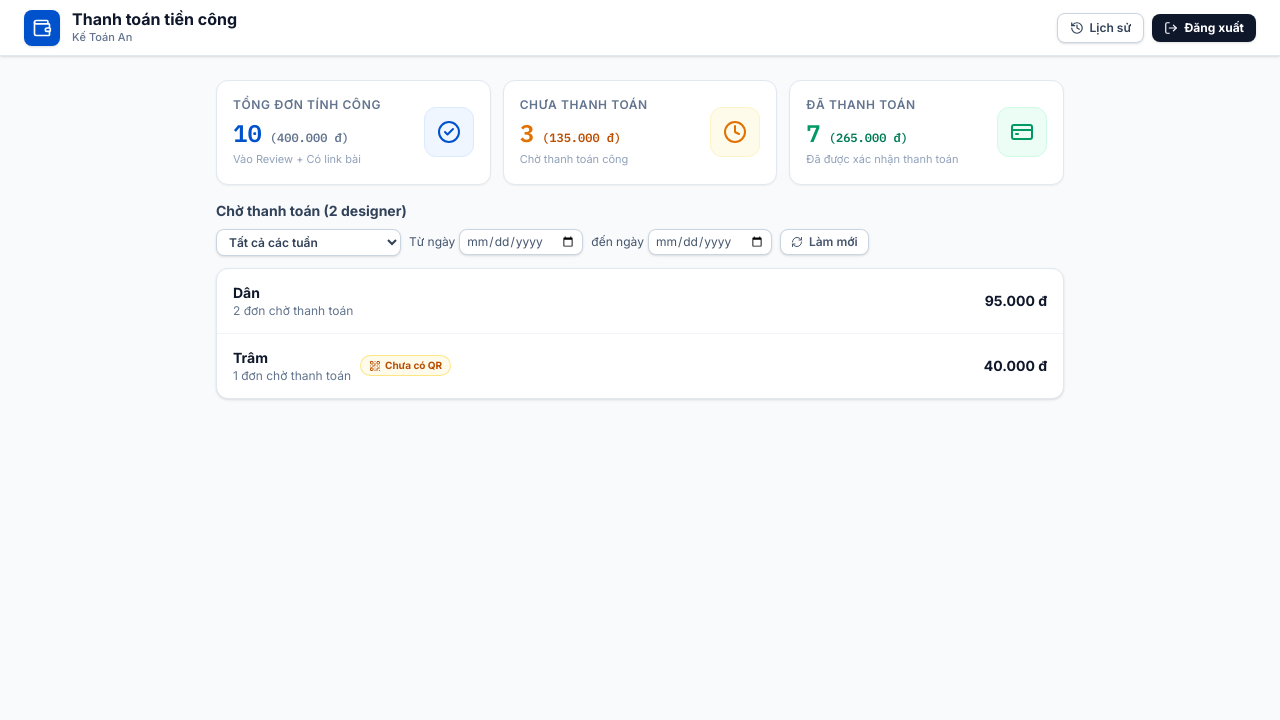
Test: AccountantPaymentsPage › a server conflict (data changed) closes the modal and refreshes instead of pretending success
What coordinates should you click on to do the following:
click the text "Dân"
I would click on:
 (246, 292)
Its box is [233,284,260,300].
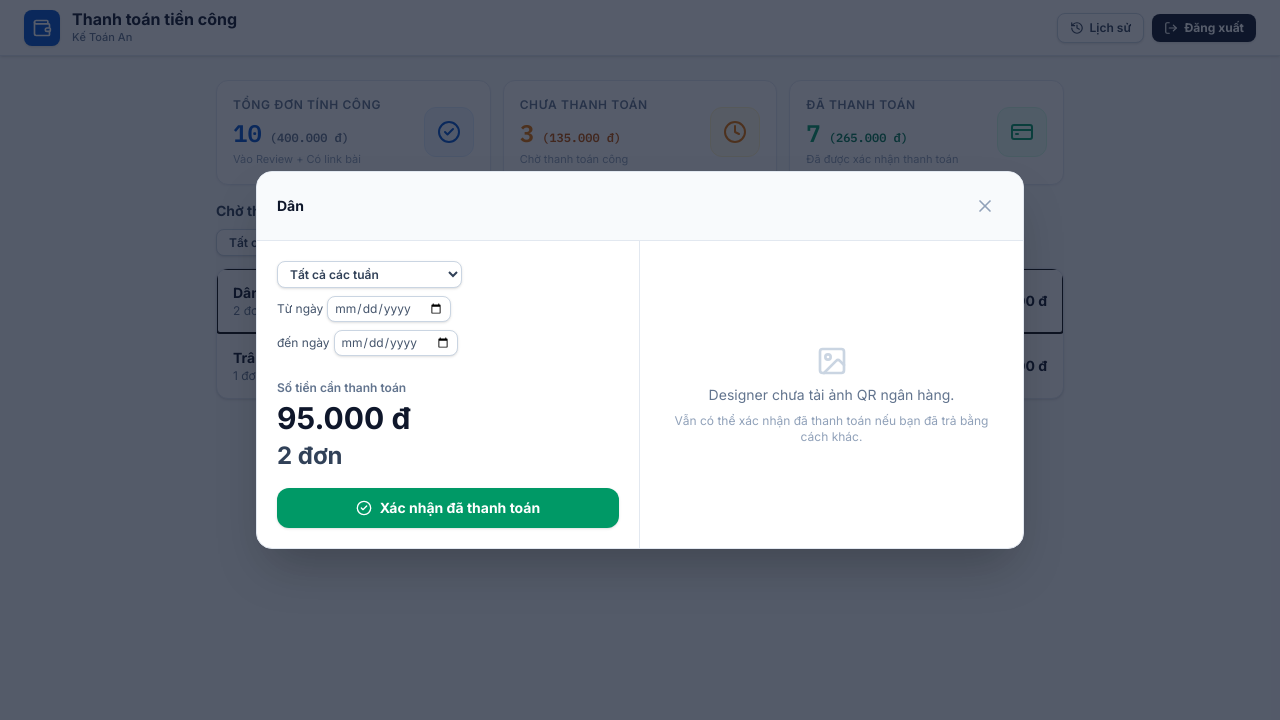
expect the text with test id "pay-amount" reads "95.000 đ": met, box [277,400,410,436]
What coordinates should you click on to do the following:
click the button "Xác nhận đã thanh toán"
I would click on:
 (448, 508)
Its box is [277,488,619,528].
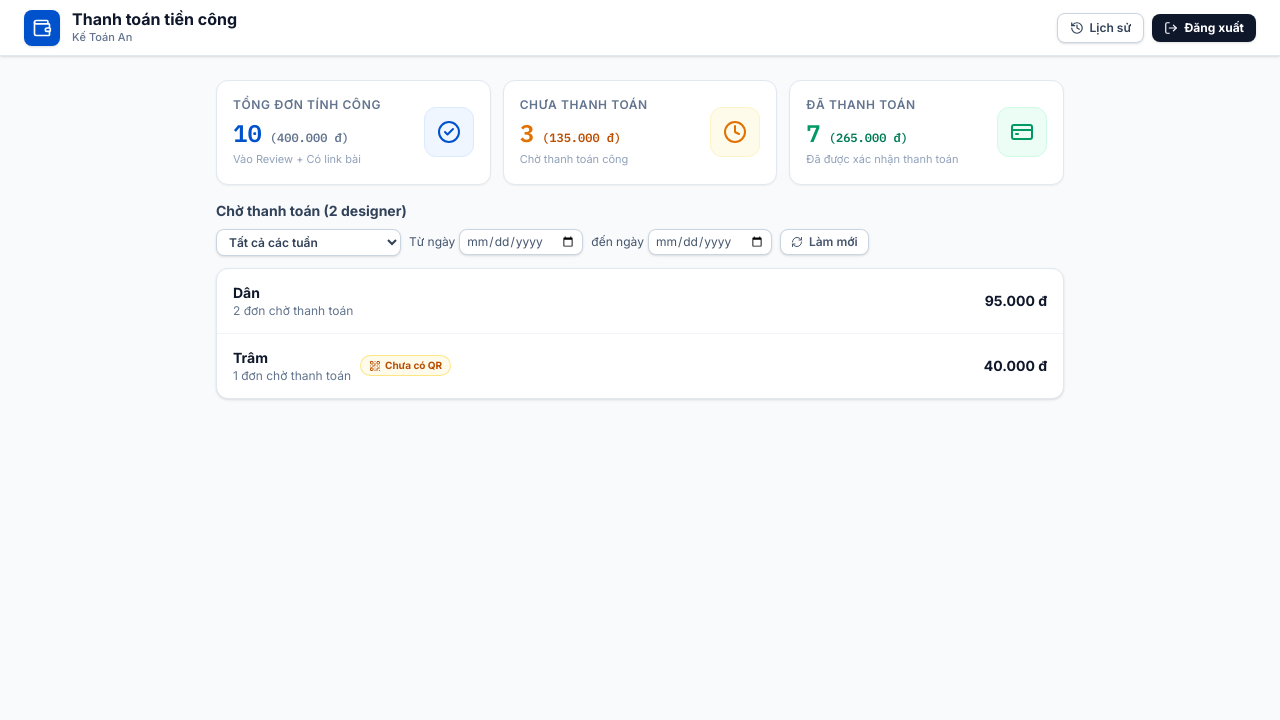
expect the text "Dân" is shown: met, box [233,284,260,300]
expect the element with test id "designer-pay-modal" is gone: met
